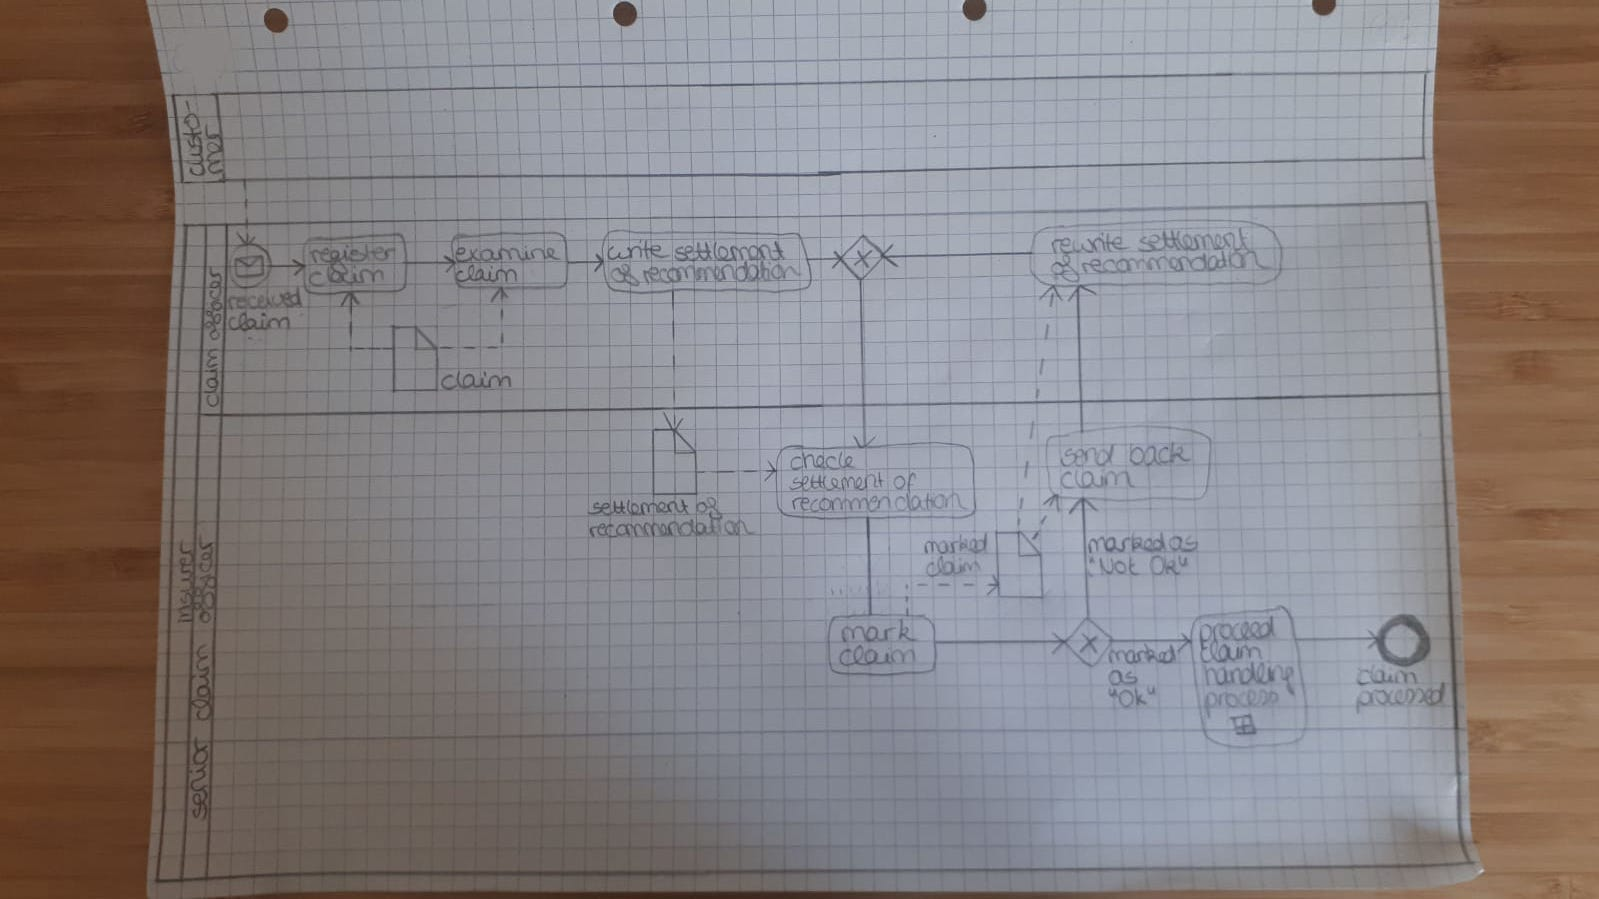Not: (1083, 552, 1147, 582)
Ok: (1102, 683, 1162, 713), (1144, 550, 1195, 582)
as: (1161, 528, 1204, 559), (1104, 666, 1142, 692)
back: (1122, 437, 1197, 472)
check: (783, 446, 864, 476)
claim: (185, 639, 219, 728), (832, 640, 921, 672), (1054, 463, 1143, 494), (303, 261, 391, 292), (435, 366, 519, 397), (1193, 634, 1268, 668), (1351, 659, 1424, 692), (221, 307, 299, 337), (449, 260, 525, 289), (918, 552, 987, 583), (197, 342, 224, 413)
custo-: (178, 97, 209, 184)
examine: (451, 238, 564, 269)
handling: (1195, 655, 1302, 703)
insurer: (171, 533, 198, 629)
mark: (835, 613, 924, 649)
marked: (1082, 526, 1175, 560), (918, 527, 994, 562), (1103, 639, 1183, 670)
mer: (200, 119, 230, 180)
of: (1045, 249, 1084, 286), (691, 492, 728, 524), (605, 260, 645, 290), (888, 469, 923, 499)
officer: (187, 529, 220, 629), (200, 263, 228, 347)
proceed: (1194, 610, 1281, 658)
process: (1200, 683, 1285, 724)
processed: (1349, 677, 1452, 720)
received: (222, 281, 309, 315)
recommendation: (1075, 245, 1279, 279), (581, 510, 759, 546), (784, 487, 973, 518), (637, 255, 807, 289)
register: (305, 239, 401, 281)
rewrite: (1044, 227, 1137, 260)
send: (1054, 439, 1121, 474)
senior: (183, 728, 214, 827)
settlement: (1131, 223, 1257, 258), (669, 236, 792, 267), (784, 468, 888, 497), (582, 495, 695, 520)
write: (602, 238, 673, 267)
